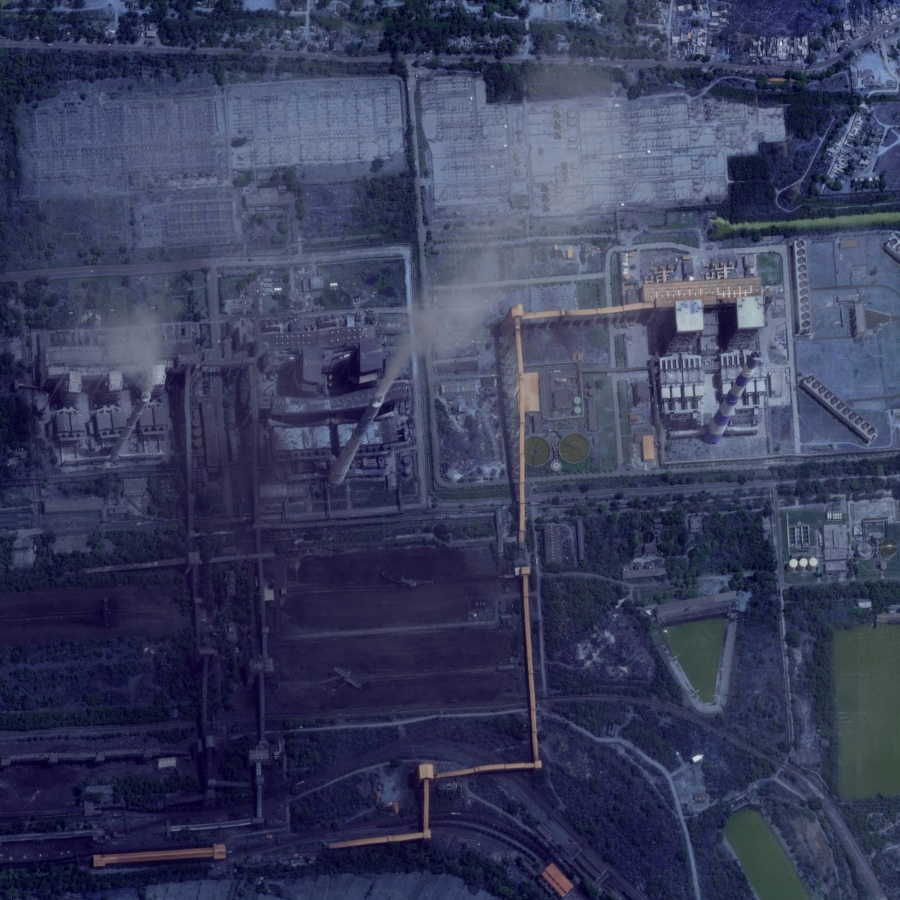PowerPlant: (652, 278, 776, 458)
